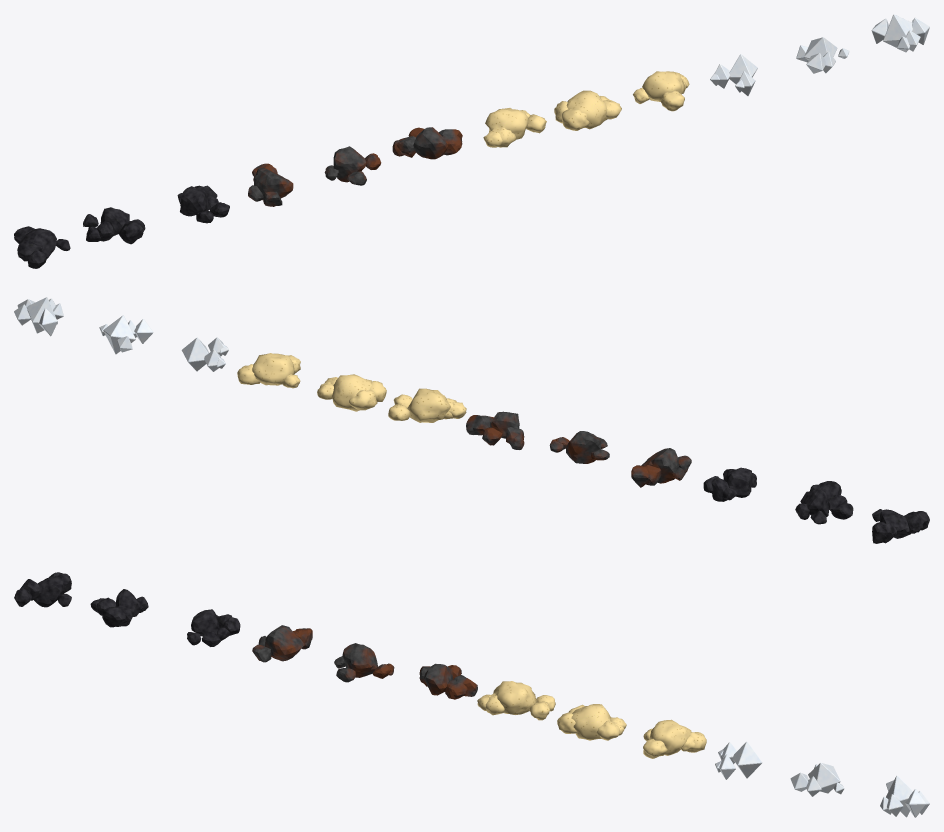
The model's file is ores.fbx.
3 views of the same model, one above another, from view 1: azimuth 30°, elevation 25°; view 2: azimuth 150°, elevation 25°; view 3: azimuth 330°, elevation 25° (orthographic).
Parts seen in each view (by area): view 1: Gold2, Iron3, Gold1, Coal2, Gold3, Coal1, Diamond3, Iron2, Coal3, Iron1, Diamond2, Diamond1; view 2: Gold1, Gold2, Gold3, Coal2, Iron1, Iron3, Coal1, Iron2, Coal3, Diamond3, Diamond2, Diamond1; view 3: Gold1, Gold2, Gold3, Iron1, Iron3, Iron2, Coal1, Coal3, Coal2, Diamond3, Diamond2, Diamond1.
Boxes of the visible parts, x1=… form: Gold2: x1=554, y1=90, x2=621, y2=130; Iron3: x1=392, y1=127, x2=462, y2=159; Gold1: x1=483, y1=108, x2=546, y2=147; Coal2: x1=83, y1=207, x2=145, y2=244; Gold3: x1=633, y1=71, x2=689, y2=111; Coal1: x1=14, y1=226, x2=70, y2=268; Diamond3: x1=871, y1=14, x2=929, y2=52; Iron2: x1=324, y1=146, x2=381, y2=185; Coal3: x1=177, y1=185, x2=229, y2=223; Iron1: x1=248, y1=163, x2=293, y2=206; Diamond2: x1=796, y1=37, x2=849, y2=73; Diamond1: x1=710, y1=54, x2=757, y2=95; Gold1: x1=388, y1=388, x2=466, y2=422; Gold2: x1=317, y1=374, x2=386, y2=411; Gold3: x1=237, y1=353, x2=300, y2=388; Coal2: x1=795, y1=481, x2=853, y2=524; Iron1: x1=631, y1=448, x2=691, y2=487; Iron3: x1=466, y1=411, x2=524, y2=449; Coal1: x1=872, y1=509, x2=929, y2=543; Iron2: x1=549, y1=431, x2=609, y2=463; Coal3: x1=703, y1=467, x2=756, y2=501; Diamond3: x1=14, y1=297, x2=63, y2=336; Diamond2: x1=99, y1=315, x2=153, y2=354; Diamond1: x1=181, y1=337, x2=228, y2=371; Gold1: x1=477, y1=681, x2=555, y2=720; Gold2: x1=557, y1=704, x2=626, y2=740; Gold3: x1=643, y1=719, x2=706, y2=758; Iron1: x1=252, y1=625, x2=312, y2=662; Iron3: x1=419, y1=663, x2=477, y2=699; Iron2: x1=334, y1=643, x2=394, y2=682; Coal1: x1=14, y1=572, x2=71, y2=607; Coal3: x1=187, y1=609, x2=240, y2=646; Coal2: x1=90, y1=589, x2=148, y2=627; Diamond3: x1=880, y1=775, x2=929, y2=817; Diamond2: x1=790, y1=762, x2=844, y2=796; Diamond1: x1=715, y1=741, x2=762, y2=779.
Bounding box in the file's own units: 18.66 × 0.7674 × 1.41.
Materials: 12 (12 with a texture image).
